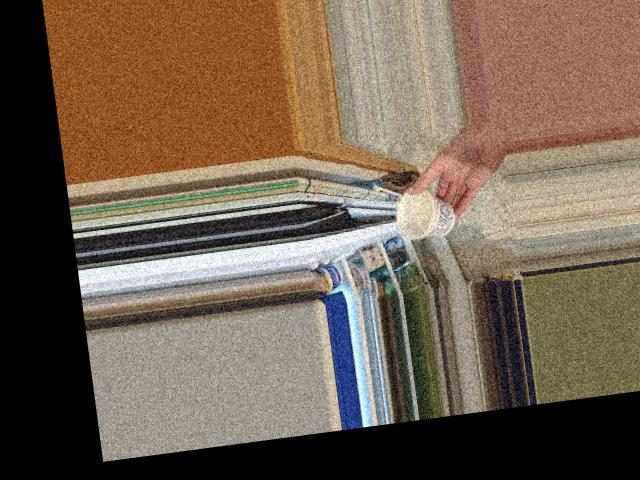cotage: (400, 183, 454, 238)
